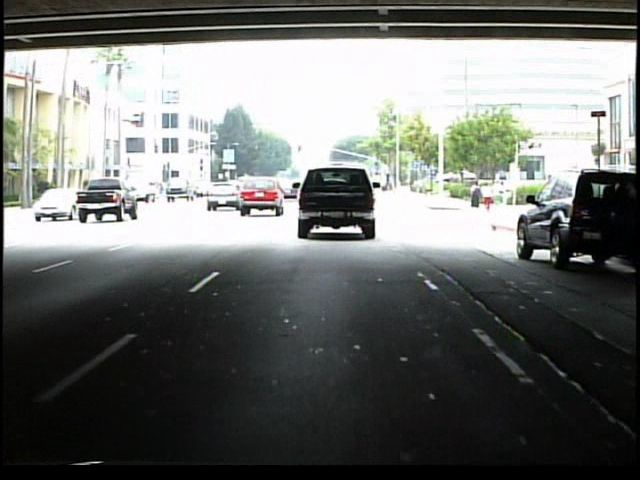person: (468, 179, 483, 216), (495, 178, 510, 215), (484, 182, 495, 213)
